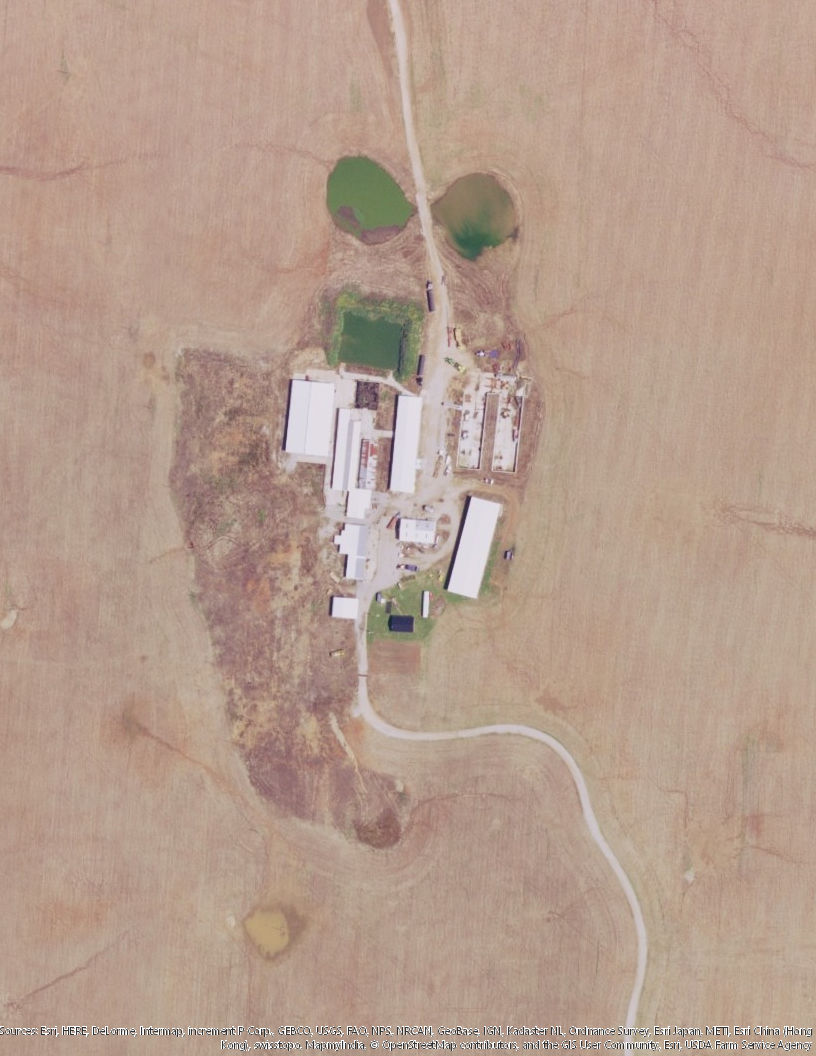cafo: (445, 490, 508, 614), (280, 381, 343, 463), (327, 405, 377, 498), (388, 393, 424, 496), (337, 519, 374, 586), (394, 515, 441, 545), (329, 595, 365, 621)
